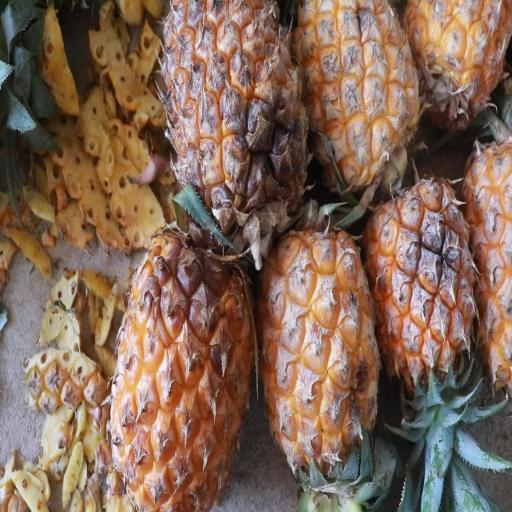Pineapple - v8 v1: (109, 221, 257, 512), (164, 0, 312, 245), (258, 216, 386, 481), (296, 1, 426, 206), (366, 175, 489, 387), (404, 0, 512, 148)
